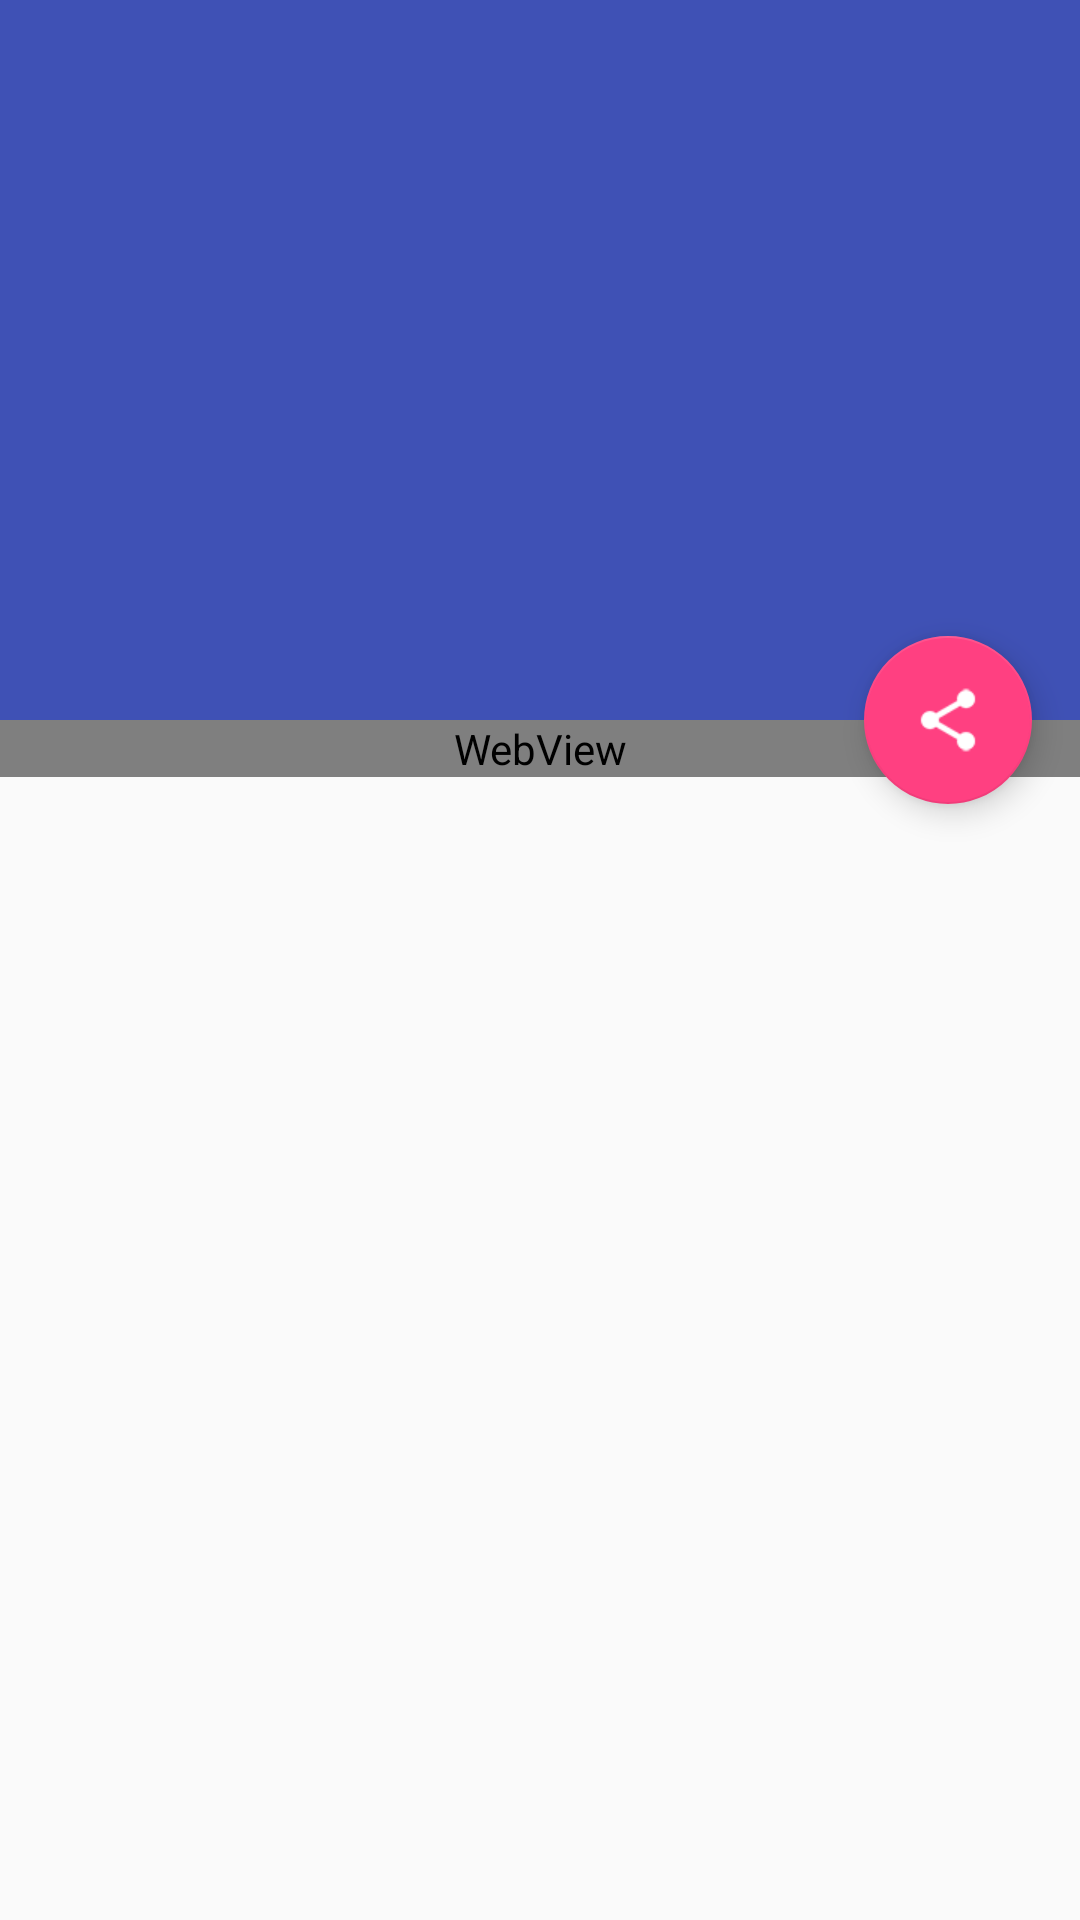

Icon click points for this 1080 x 1920 phone screenshot, format [x,y]:
share: [948,720]
